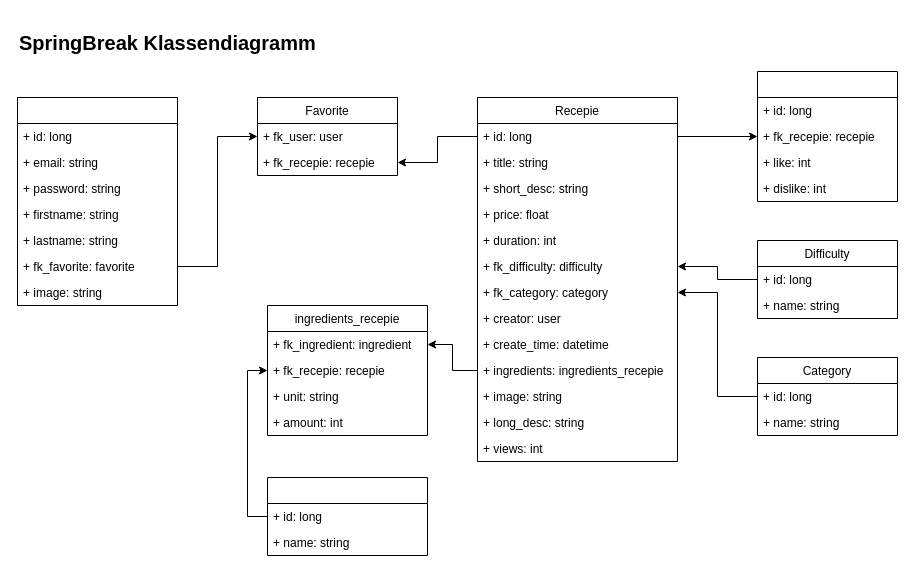
The diagram is 915 pixels wide and 575 high, and some of its shapes have lost their labels. Each missing label, with the box of its shape:
Ingredient: (266, 476, 428, 556)
Rating: (756, 70, 898, 202)
User: (16, 96, 178, 306)
